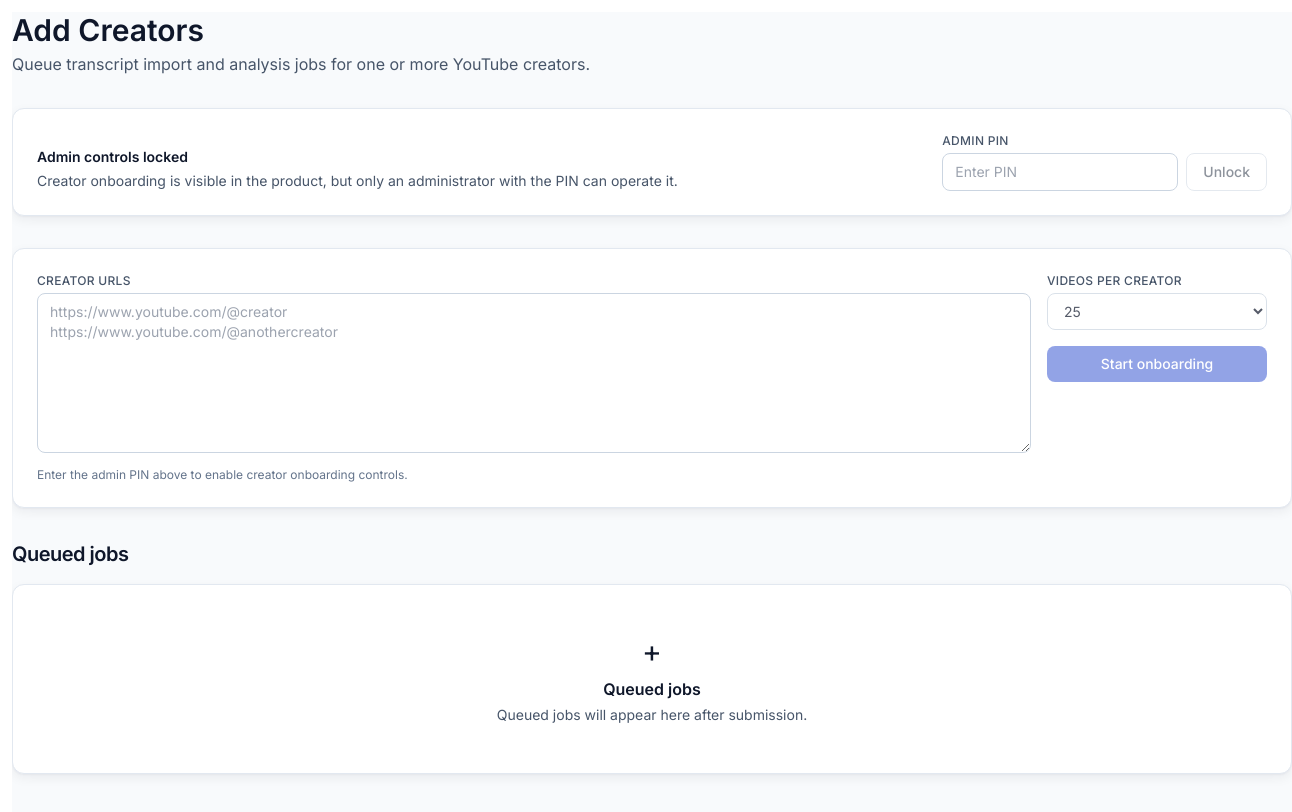
Test: AddCreatorsPage branch arms › stringifies a non-Error rejection inside the import-jobs fallback
The width and height of the screenshot is (1292, 812).
Type "2468" into the password field labelled "Admin PIN" at (1060, 172), box [942,153,1178,191]
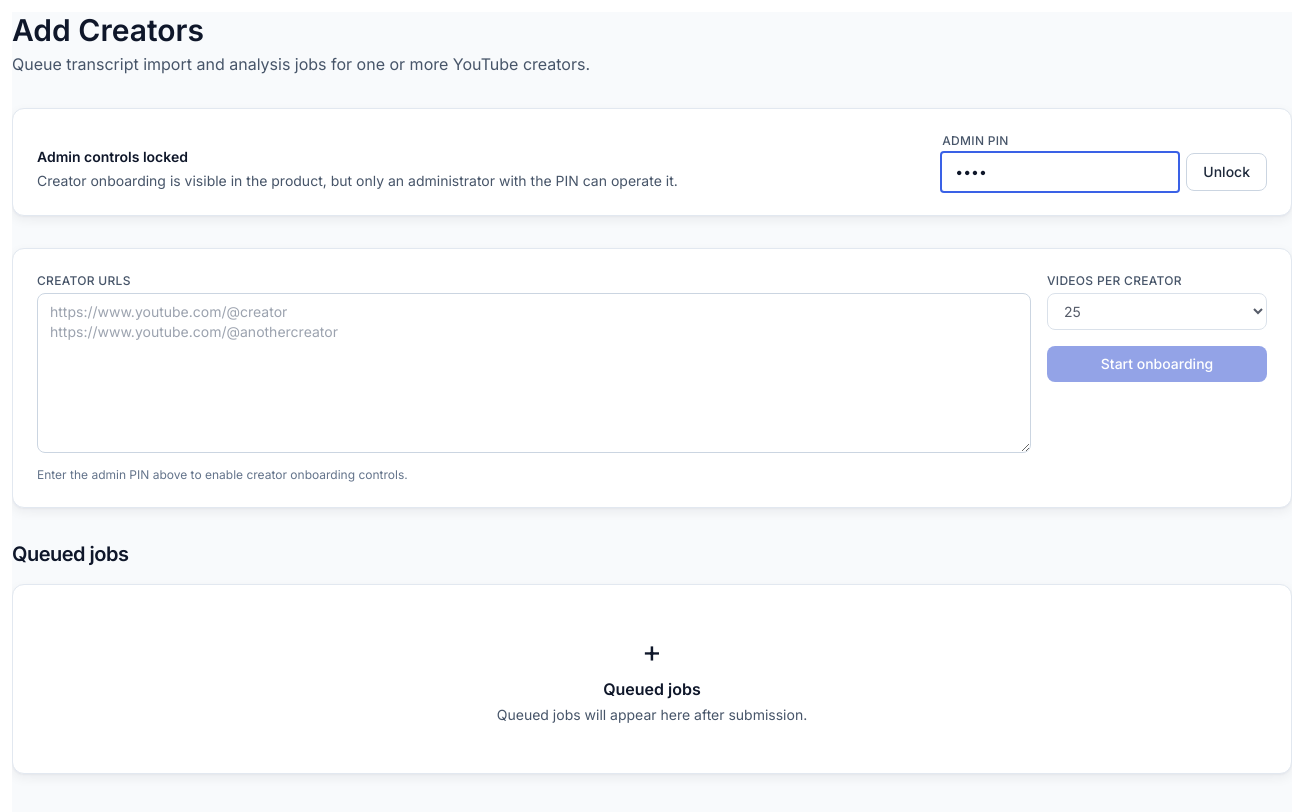
Click the button "Unlock" at (1227, 172), box [1186,153,1267,191]
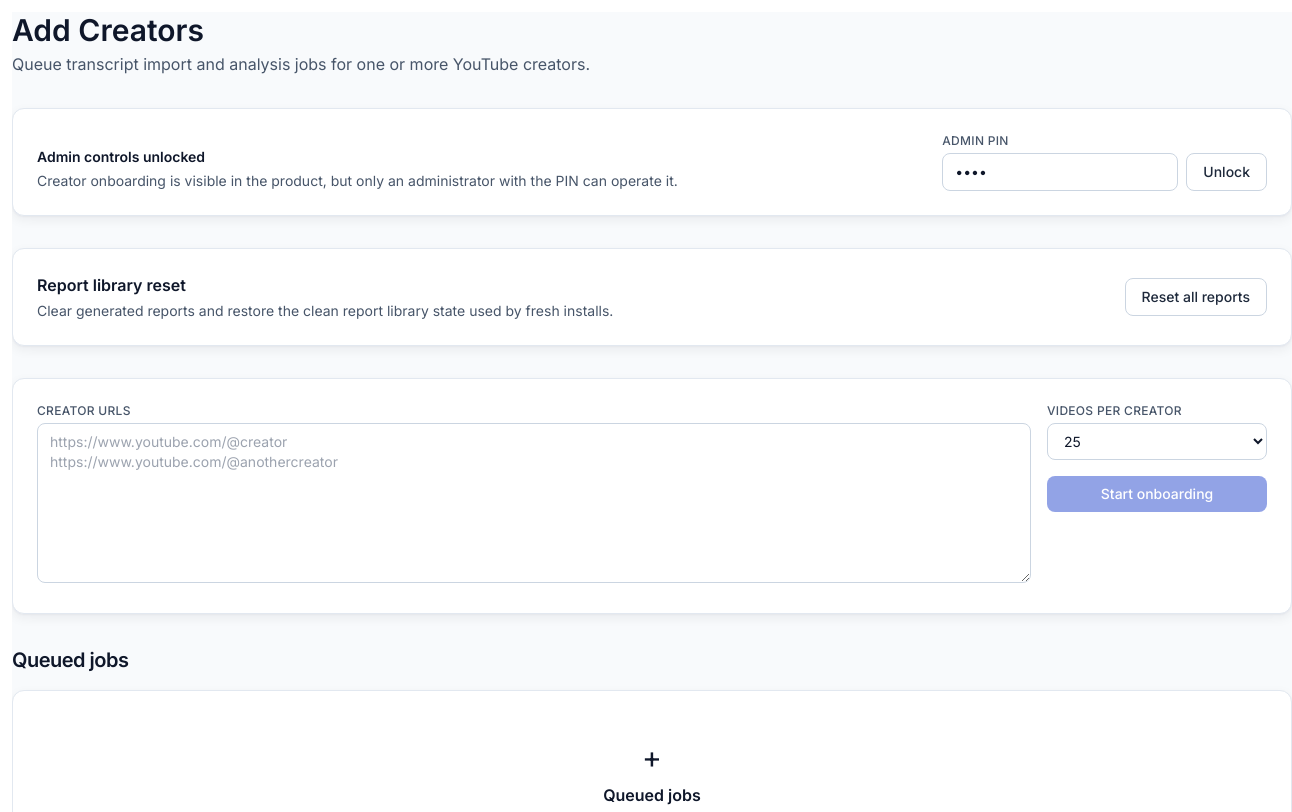
Type "https://www.youtube.com/@alpha" into the text box labelled "Creator URLs" at (534, 503), box [37,423,1031,583]
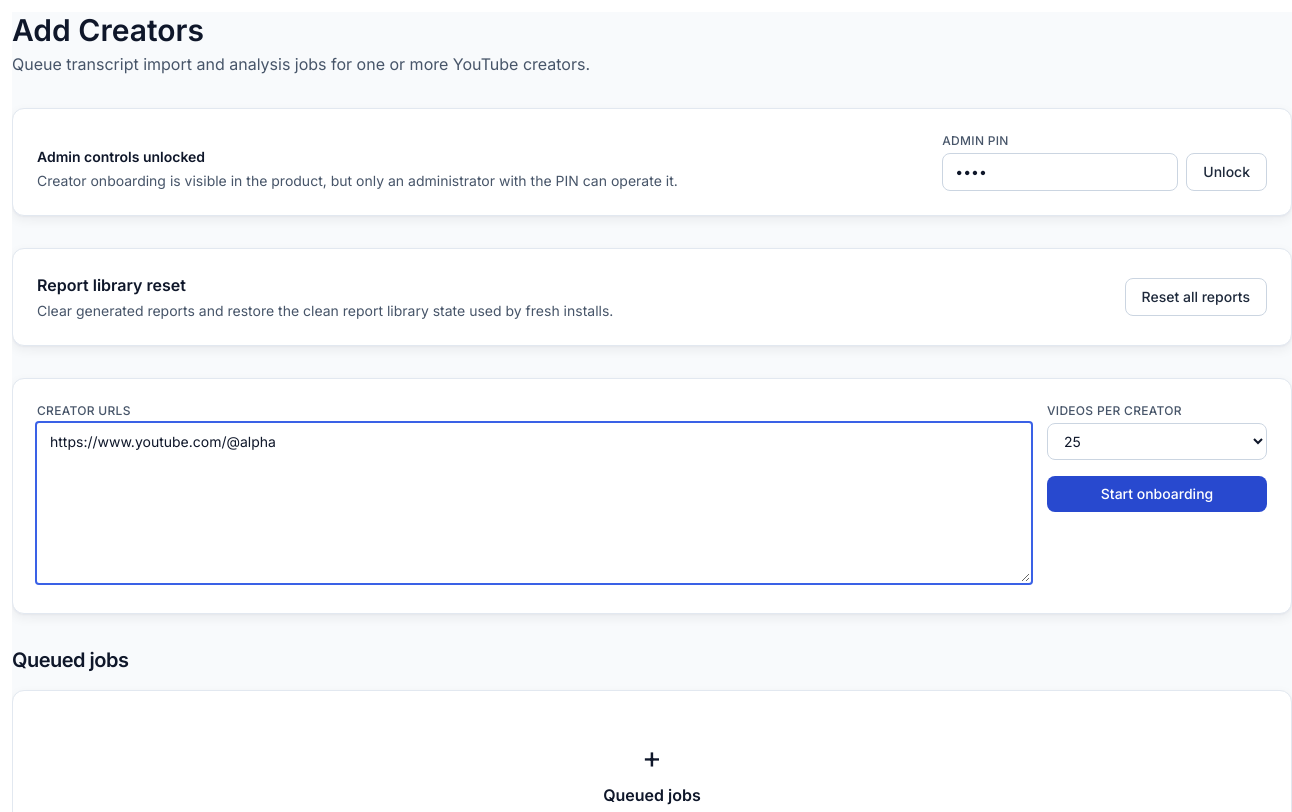
Click the button "Start onboarding" at (1157, 494), box [1047,476,1267,512]
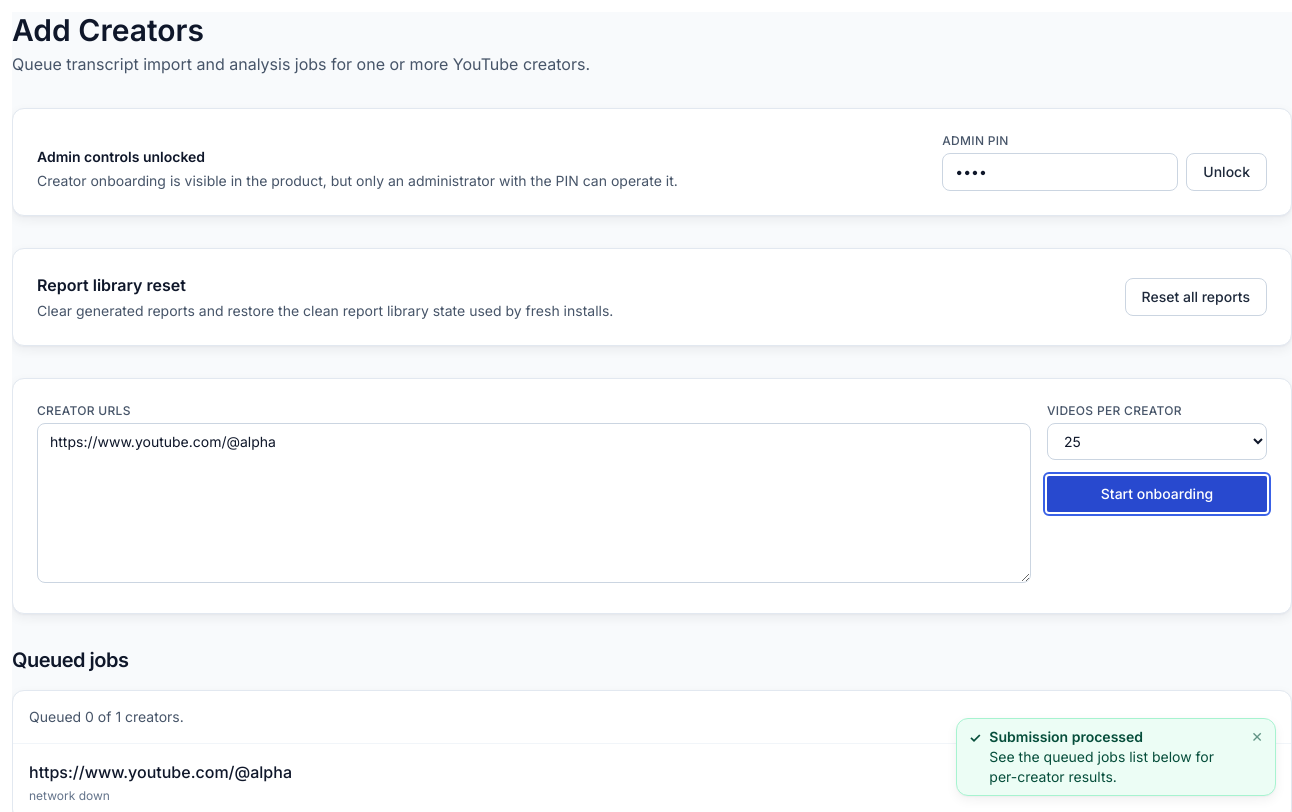
Expected: the text "network down" is shown, [29,788,110,803]
